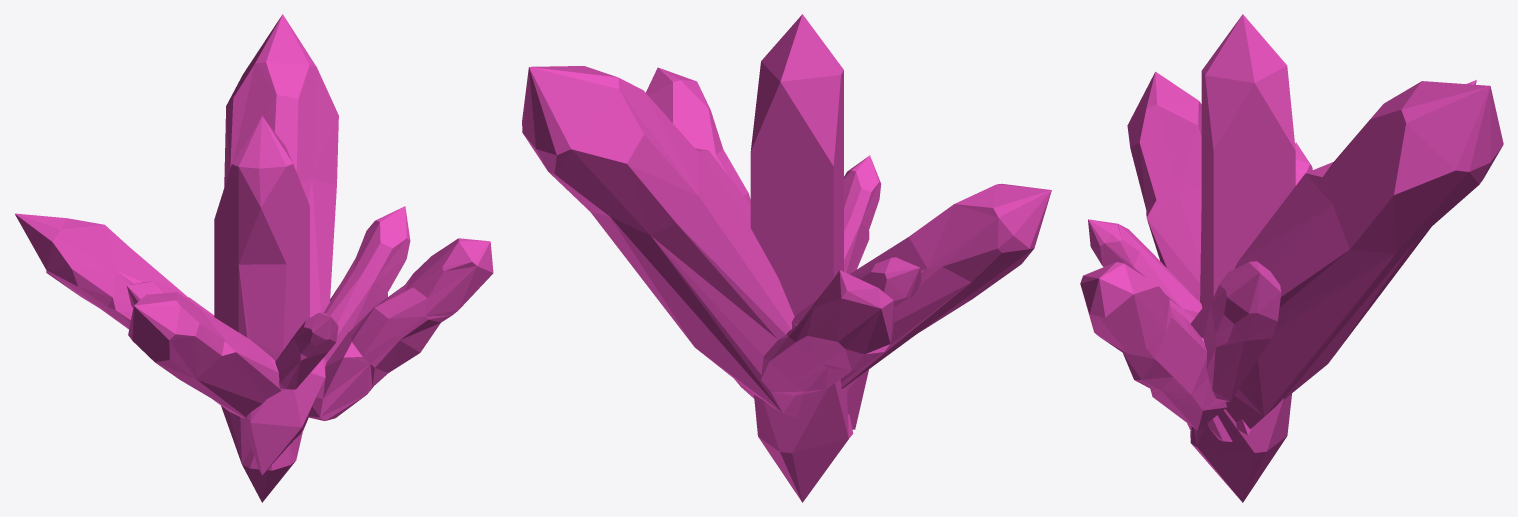
The model's file is SM_CrystalsFormation_C.fbx.
The picture shows the model from 3 angles, left to right: view 1: azimuth 30°, elevation 25°; view 2: azimuth 150°, elevation 25°; view 3: azimuth 270°, elevation 25°; orthographic projection. The views are drawn at different scales.
Visible parts, largest first — view 1: SM_CrystalsFormation_C; view 2: SM_CrystalsFormation_C; view 3: SM_CrystalsFormation_C.
Part boxes in pixels (bbox=[...]): SM_CrystalsFormation_C: bbox=[15, 14, 493, 502]; SM_CrystalsFormation_C: bbox=[522, 14, 1051, 502]; SM_CrystalsFormation_C: bbox=[1080, 14, 1503, 502].
Size of the model in its own units: 80.72 by 88.33 by 69.16.
